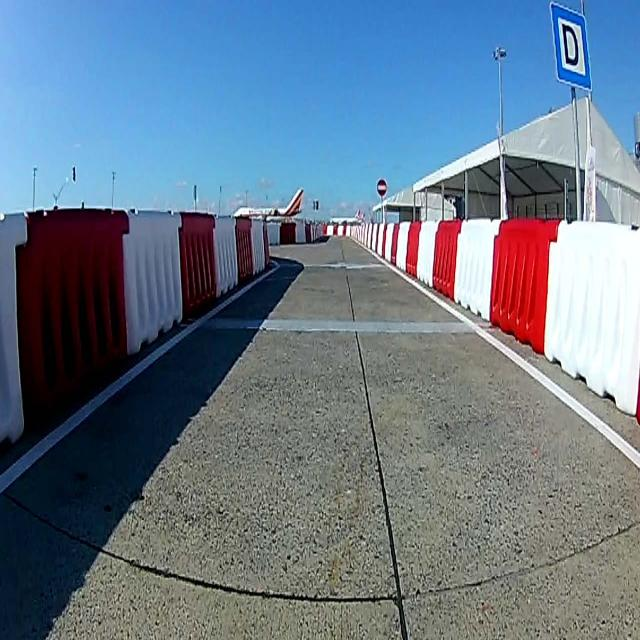durak: (550, 4, 590, 87)
girisyok: (376, 175, 389, 197)
